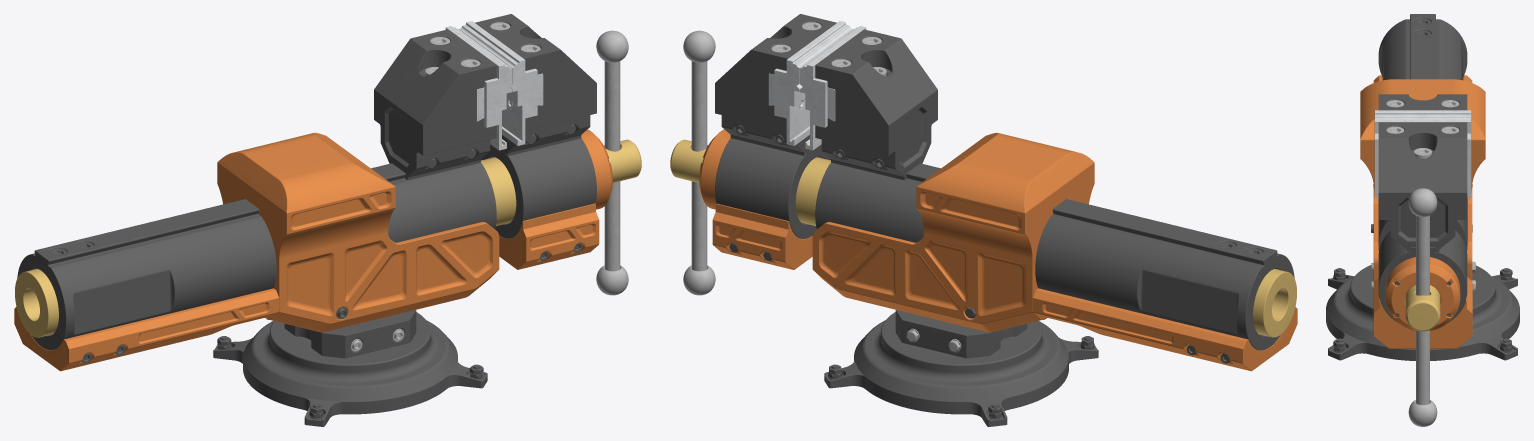
The model's file is equipment_machine_vise_c01.glb.
3 views of the same model, side by side, from view 1: azimuth 30°, elevation 25°; view 2: azimuth 150°, elevation 25°; view 3: azimuth 270°, elevation 25° (orthographic). The views are drawn at different scales.
Parts seen in each view (by area): view 1: body_01_mesh_00, clamp_01_mesh_00, shaft_01_mesh_00, head_01_mesh_00; view 2: body_01_mesh_00, clamp_01_mesh_00, shaft_01_mesh_00, head_01_mesh_00; view 3: body_01_mesh_00, clamp_01_mesh_00, shaft_01_mesh_00, head_01_mesh_00.
Boxes of the visible parts, bbox=[...] form: body_01_mesh_00: bbox=[14, 26, 511, 426]; clamp_01_mesh_00: bbox=[15, 14, 612, 337]; shaft_01_mesh_00: bbox=[596, 30, 628, 295]; head_01_mesh_00: bbox=[604, 139, 641, 182]; body_01_mesh_00: bbox=[800, 26, 1297, 426]; clamp_01_mesh_00: bbox=[699, 14, 1296, 337]; shaft_01_mesh_00: bbox=[683, 30, 715, 295]; head_01_mesh_00: bbox=[670, 139, 707, 182]; body_01_mesh_00: bbox=[1326, 14, 1519, 360]; clamp_01_mesh_00: bbox=[1373, 119, 1472, 348]; shaft_01_mesh_00: bbox=[1408, 188, 1437, 426]; head_01_mesh_00: bbox=[1405, 285, 1440, 331].
Bounding box in the file's own units: 1.19 × 0.5515 × 0.3673.
5 materials, 2 textured.
